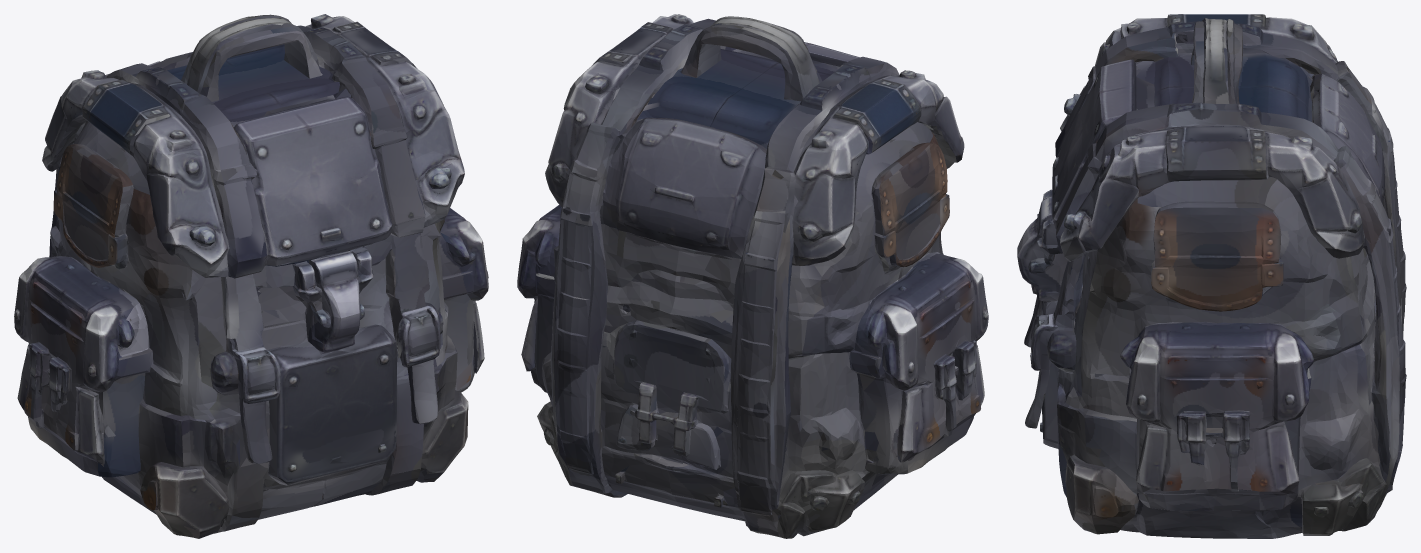
The model's file is mochila_4.glb.
The picture shows the model from 3 angles, left to right: view 1: azimuth 30°, elevation 25°; view 2: azimuth 150°, elevation 25°; view 3: azimuth 270°, elevation 25°; orthographic projection.
Parts seen in each view (by area): view 1: geometry_0; view 2: geometry_0; view 3: geometry_0.
Part boxes in pixels (x1,y1,x2,y2): geometry_0: [14, 14, 488, 538]; geometry_0: [517, 14, 988, 538]; geometry_0: [1017, 14, 1406, 538].
Bounding box in the file's own units: 0.9807 × 0.9982 × 0.7763.
1 material, 1 textured.
